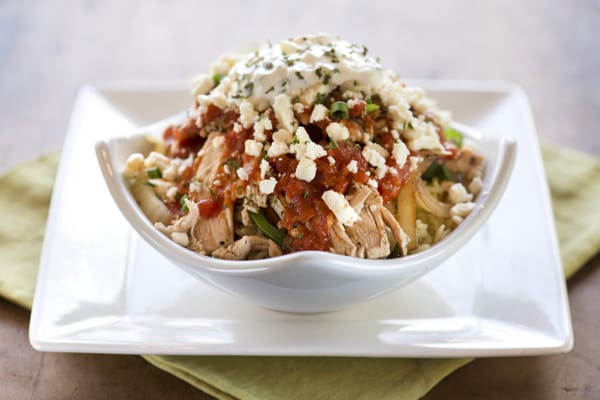sushi: (109, 30, 516, 315)
